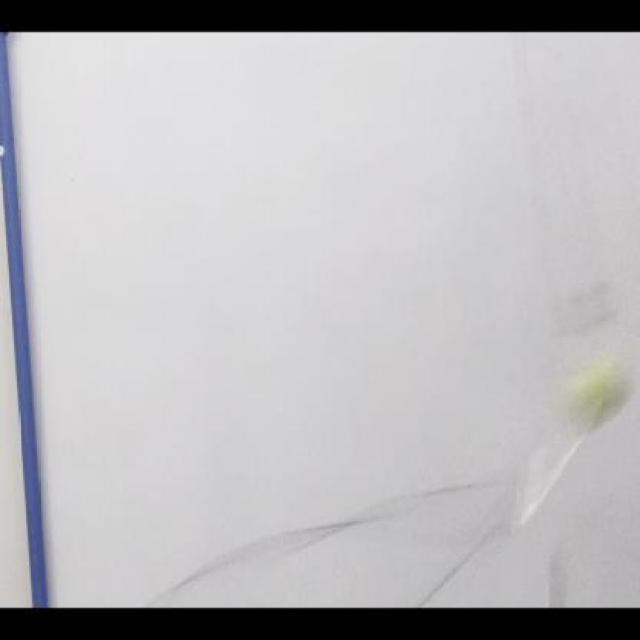baseball: (564, 349, 633, 433)
